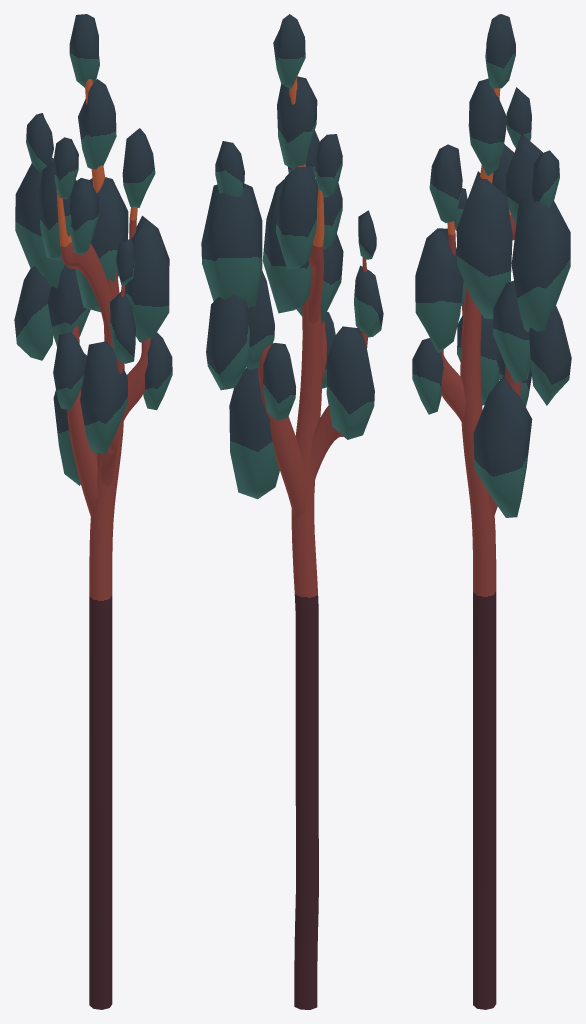
Rendered from tree04.glb.
3 views of the same model, side by side, from view 1: azimuth 90°, elevation 25°; view 2: azimuth 150°, elevation 25°; view 3: azimuth 270°, elevation 25° (orthographic).
Parts seen in each view (by area): view 1: Tree04.001; view 2: Tree04.001; view 3: Tree04.001.
Part boxes in pixels (x1,y1,x2,y2): Tree04.001: (14,14,172,1009); Tree04.001: (201,14,383,1009); Tree04.001: (412,14,571,1009).
Size of the model in its own units: 6.54 by 44.02 by 6.4.
1 material, 1 textured.
